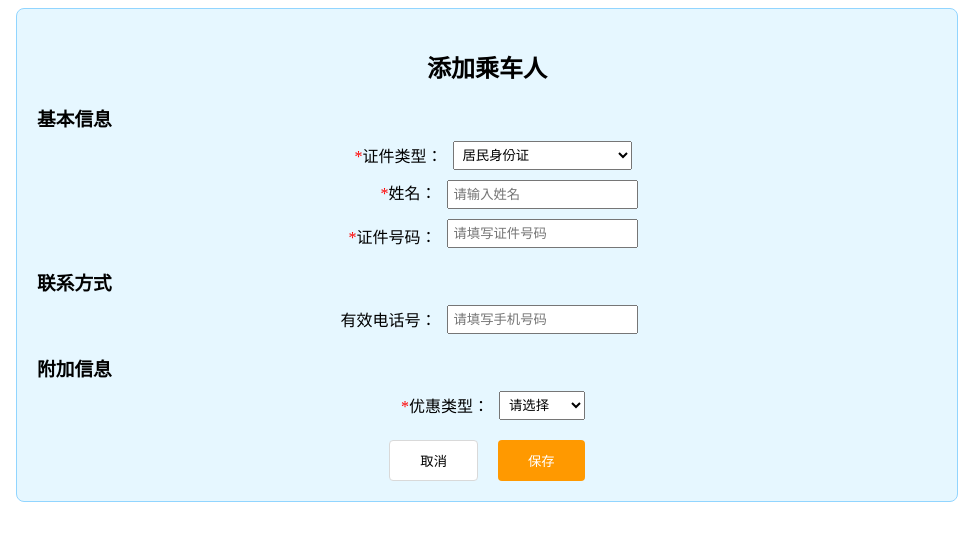
Test: PassengerForm Validation Requirements › Shows "身份信息不一致！" when server returns identity mismatch error
Select "居民身份证" in the dropdown labelled "*证件类型：": [542, 155] box [452,141,632,170]
Valid ID format to pass local validation
In the field labelled "*证件号码：": [542, 233] box [446,219,638,248], type "110101199001011234"
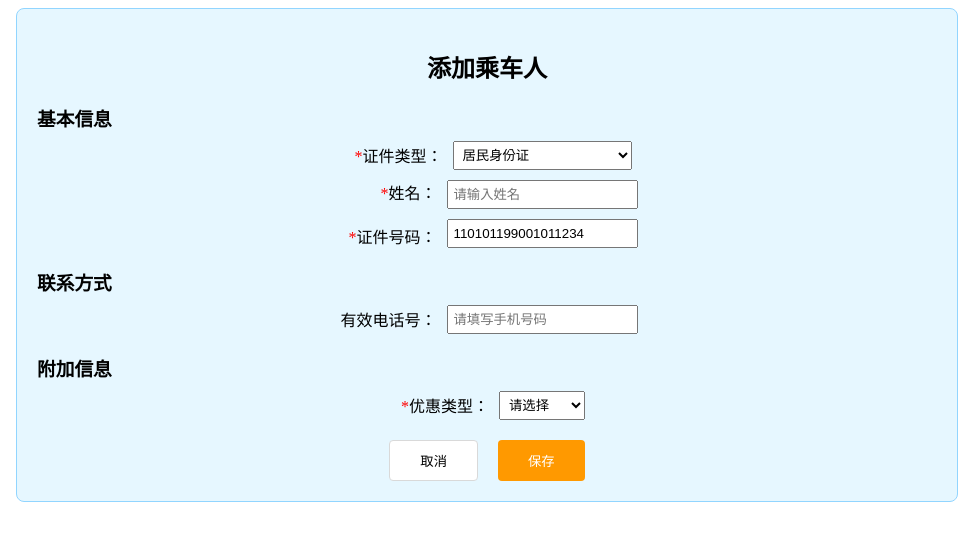
In the field labelled "*姓名：": [542, 194] box [446,180,638,209], type "WrongName"
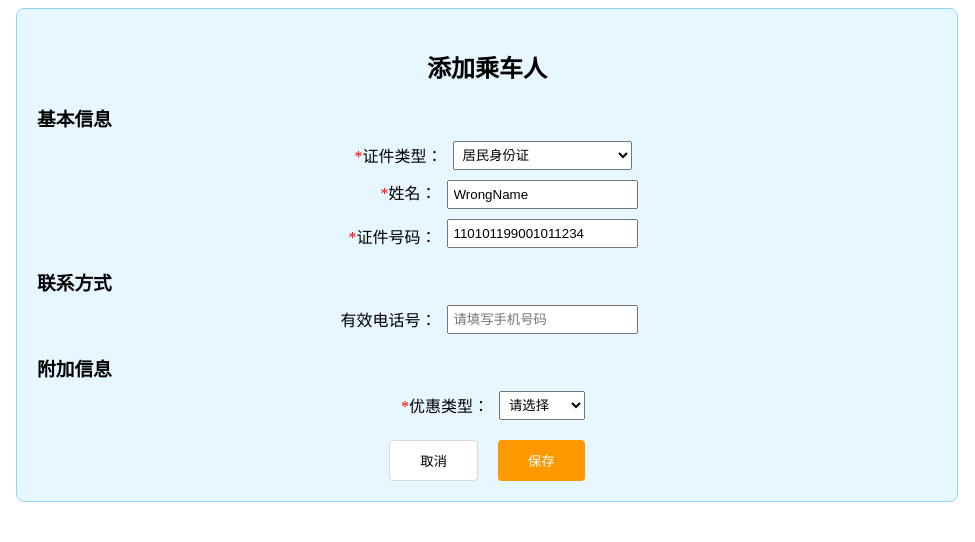
Click the button "保存": [541, 460] box [498,440,585,481]
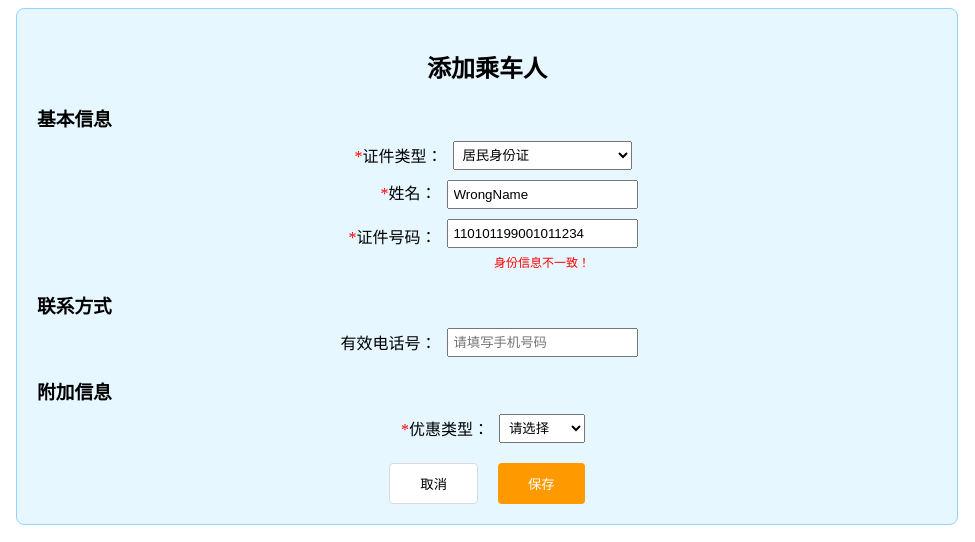
Check: the text "身份信息不一致！" is shown, box [494,256,590,270]
